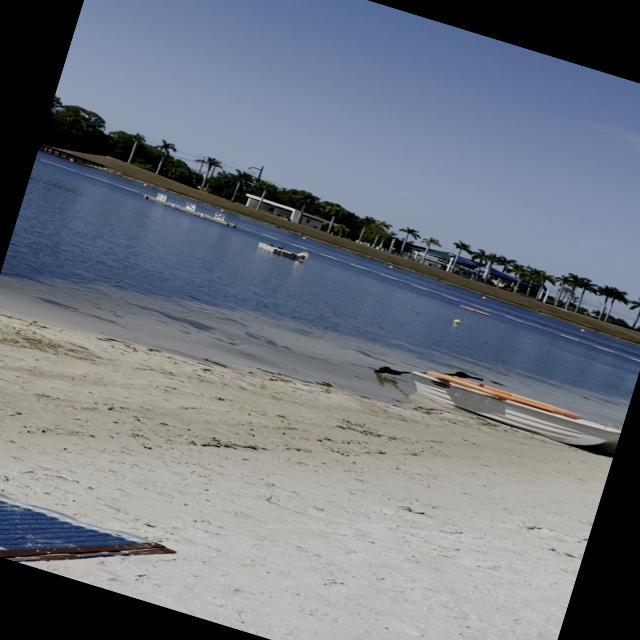buoy: (452, 317, 461, 323)
